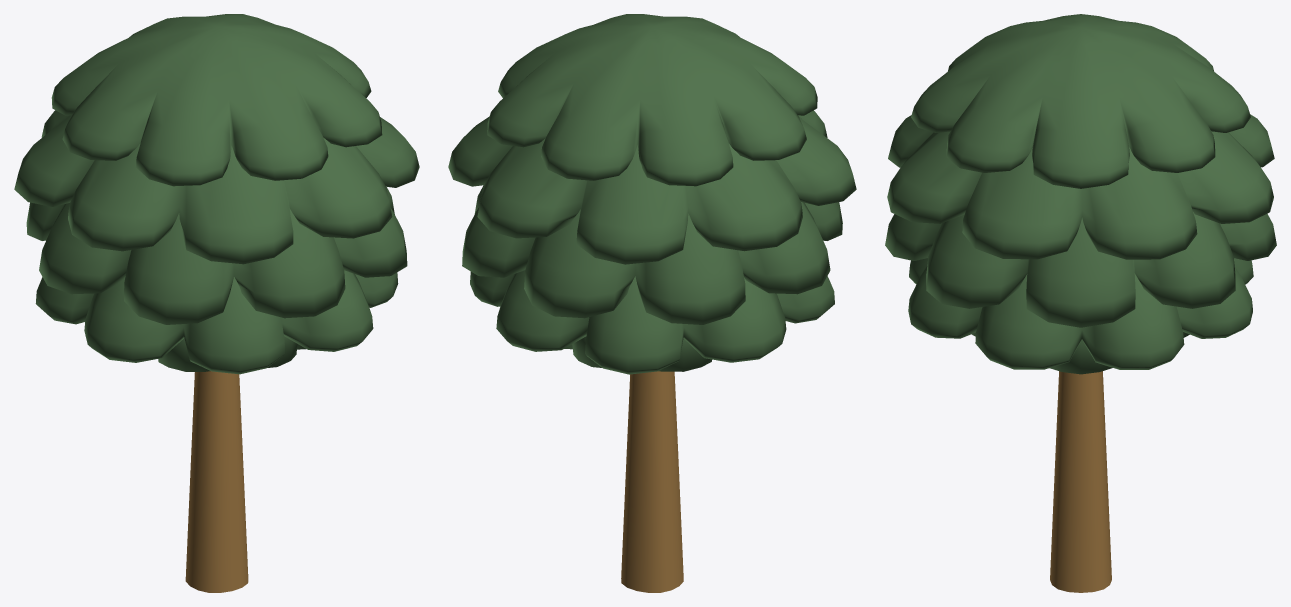
The model's file is Tree.glb.
The picture shows the model from 3 angles, left to right: view 1: azimuth 30°, elevation 25°; view 2: azimuth 150°, elevation 25°; view 3: azimuth 270°, elevation 25°; orthographic projection.
Parts seen in each view (by area): view 1: Tree; view 2: Tree; view 3: Tree.
Boxes of the visible parts, box(x1,y1,x2,y2) form: Tree: box(14, 14, 419, 592); Tree: box(448, 14, 856, 592); Tree: box(885, 14, 1276, 592).
Size of the model in its own units: 5.53 by 8.63 by 5.55.
